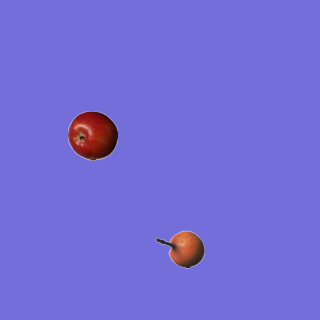Apple Braeburn: (67, 110, 117, 160)
Granadilla: (154, 224, 204, 274)
